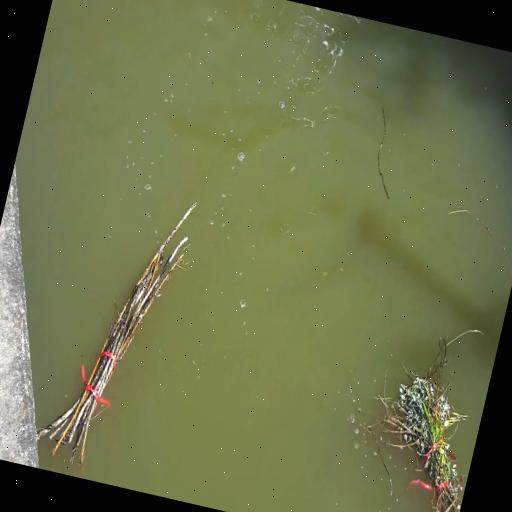twig: (23, 176, 208, 482), (348, 309, 497, 512)
